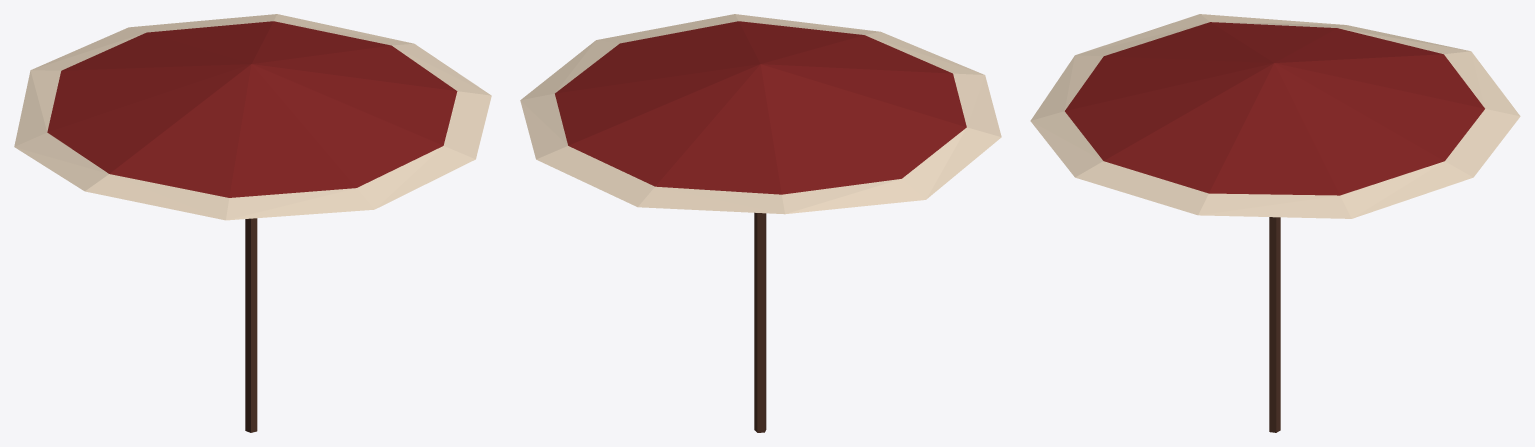
File: Umbrella Asia.fbx
3 views of the same model, side by side, from view 1: azimuth 30°, elevation 25°; view 2: azimuth 150°, elevation 25°; view 3: azimuth 270°, elevation 25° (orthographic).
Parts seen in each view (by area): view 1: Umbrella; view 2: Umbrella; view 3: Umbrella.
Boxes of the visible parts, x1,y1,x2,y2 form: Umbrella: (14, 14, 491, 432); Umbrella: (520, 14, 1001, 432); Umbrella: (1030, 14, 1520, 432).
Size of the model in its own units: 1.11 by 0.9591 by 1.16.
